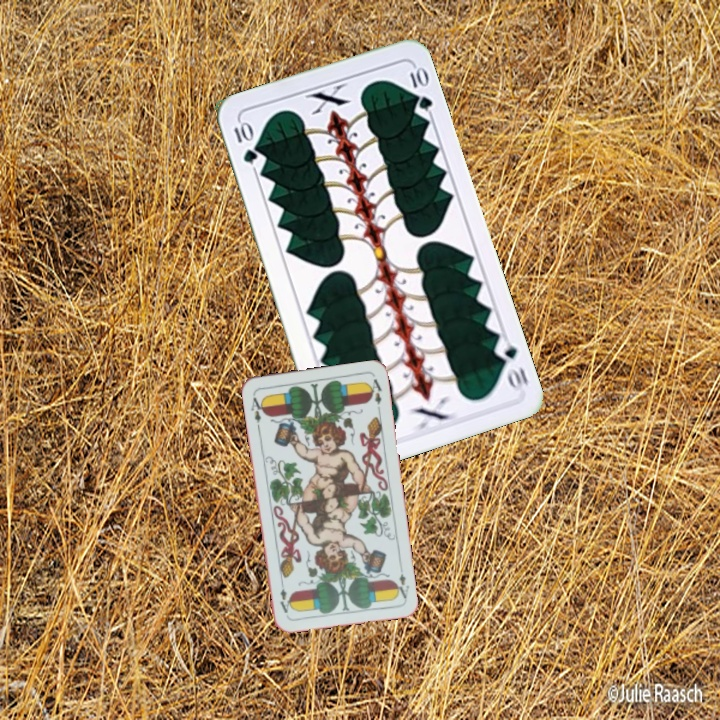EA: (247, 390, 267, 431), (391, 569, 412, 601)
G10: (490, 334, 531, 394), (229, 117, 260, 166)
